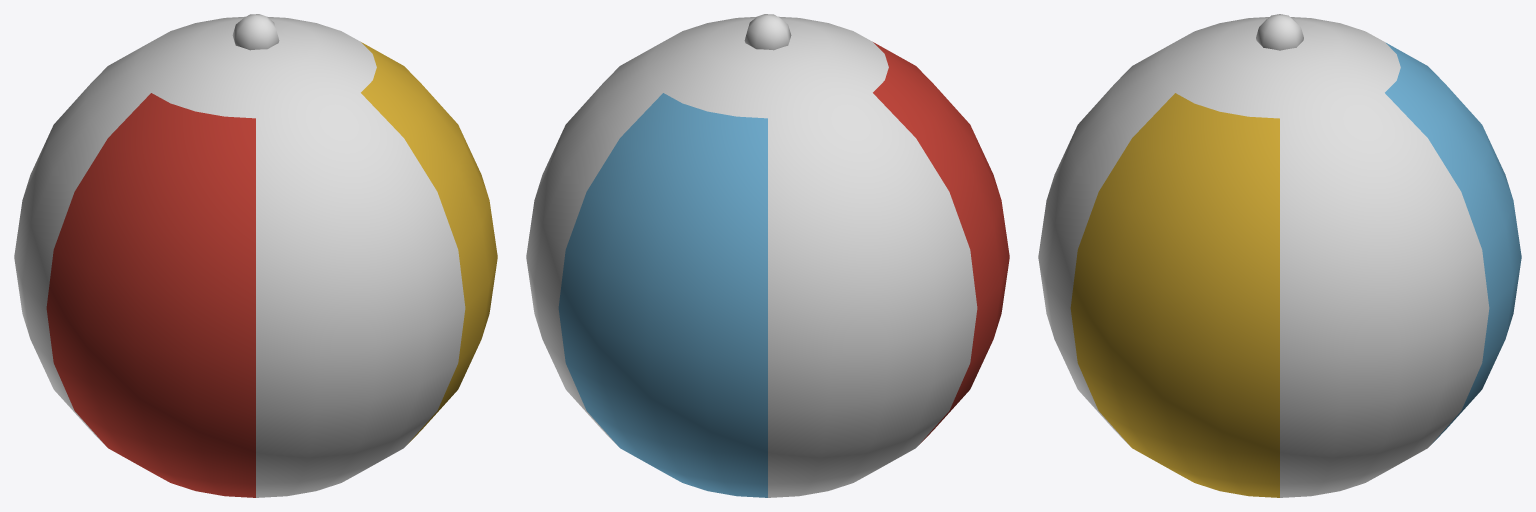
Rendered from spielball.glb.
3 views of the same model, side by side, from view 1: azimuth 30°, elevation 25°; view 2: azimuth 150°, elevation 25°; view 3: azimuth 270°, elevation 25° (orthographic).
Parts seen in each view (by area): view 1: spielball-lack; view 2: spielball-lack; view 3: spielball-lack.
Boxes of the visible parts, <box> form: spielball-lack: <box>14,14,497,497</box>; spielball-lack: <box>526,14,1009,497</box>; spielball-lack: <box>1038,14,1521,497</box>.
Bounding box in the file's own units: 0.6 × 0.63 × 0.6.
